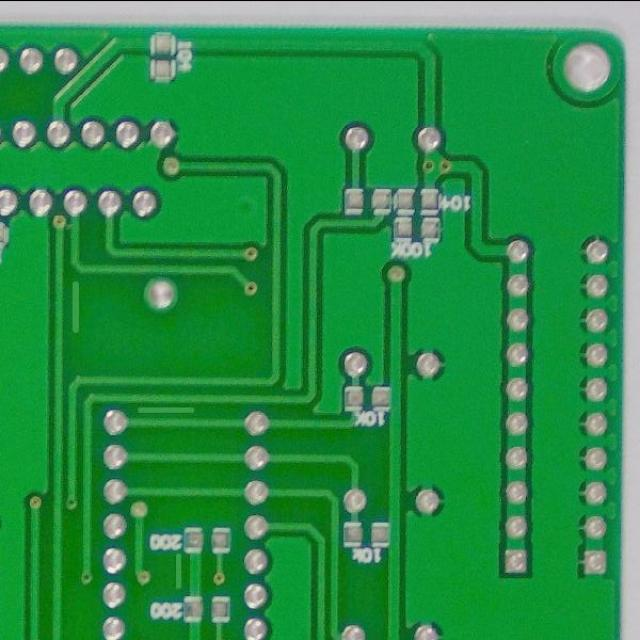Spurious_Cooper: (66, 275, 85, 337), (133, 403, 200, 418), (170, 550, 187, 593)
